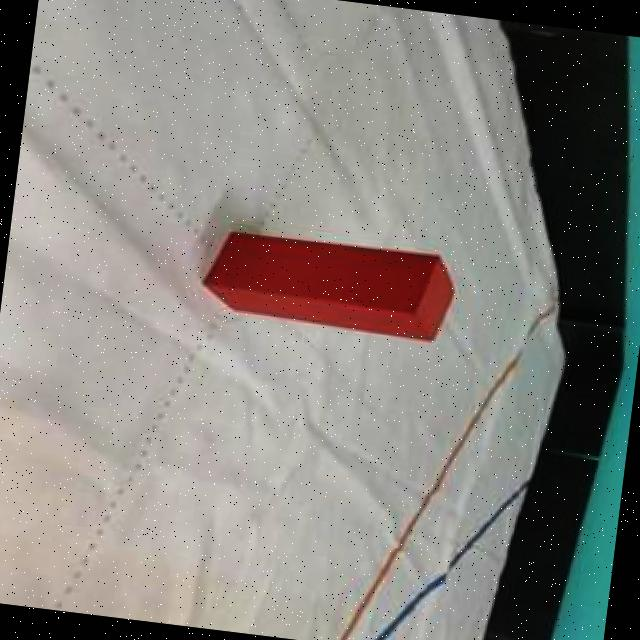redbox: (195, 224, 462, 345)
